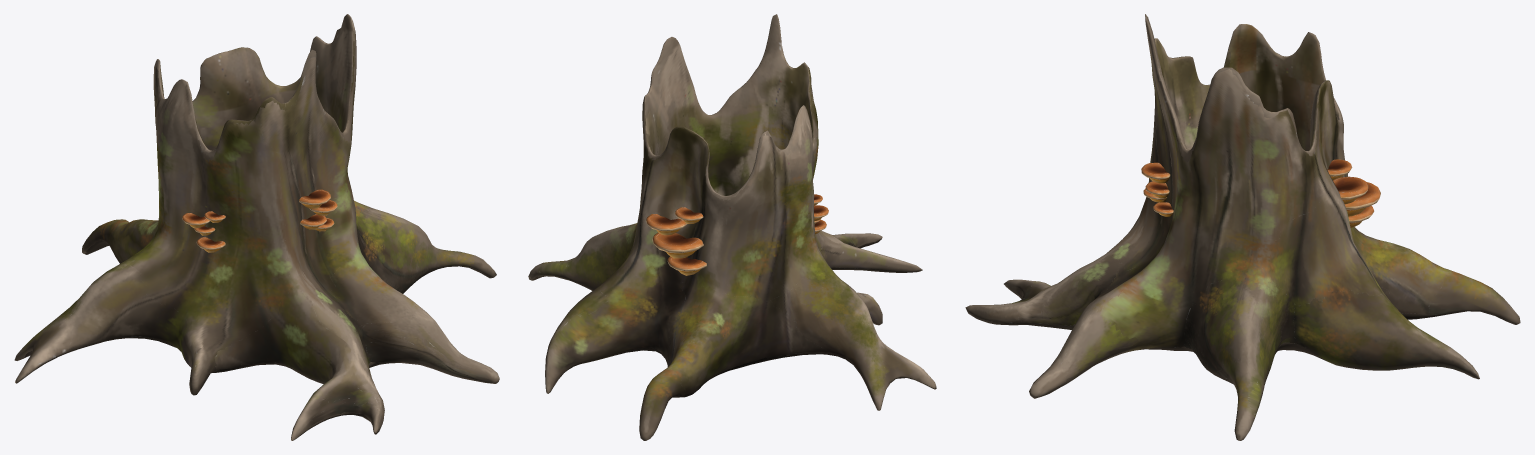
Rendered from Baumstumpf.glb.
3 views of the same model, side by side, from view 1: azimuth 30°, elevation 25°; view 2: azimuth 150°, elevation 25°; view 3: azimuth 270°, elevation 25° (orthographic). The views are drawn at different scales.
Visible parts, largest first — view 1: Hauptfläche; view 2: Hauptfläche, Quad-Kugel_Quad-Kugel, Quad-Kugel_Quad-Kugel 2, Quad-Kugel_Quad-Kugel 1; view 3: Hauptfläche, Quad-Kugel_Quad-Kugel 2, Quad-Kugel_Quad-Kugel.
Part boxes in pixels (x1,y1,x2,y2): Hauptfläche: [14, 14, 499, 440]; Hauptfläche: [528, 14, 936, 440]; Quad-Kugel_Quad-Kugel: [652, 232, 703, 258]; Quad-Kugel_Quad-Kugel 2: [646, 214, 687, 235]; Quad-Kugel_Quad-Kugel 1: [667, 256, 706, 275]; Hauptfläche: [965, 14, 1520, 440]; Quad-Kugel_Quad-Kugel 2: [1333, 176, 1368, 204]; Quad-Kugel_Quad-Kugel: [1344, 182, 1380, 216].
Size of the model in its own units: 2.45 by 1.66 by 2.53.
Materials: 13 (13 with a texture image).
